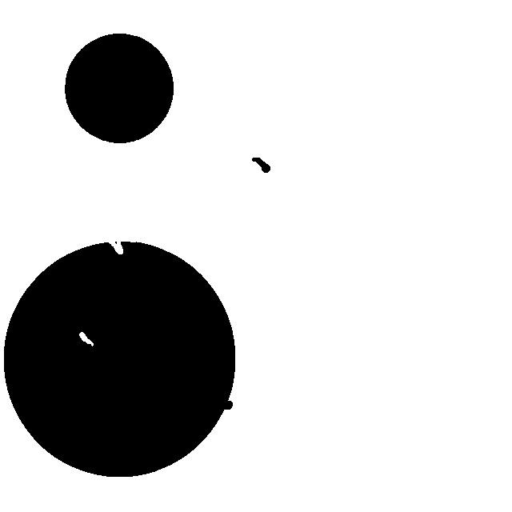copper: (244, 150, 278, 180)
mousebite: (100, 230, 130, 262)
pin-hole: (71, 324, 101, 354)
spur: (213, 393, 240, 417)
